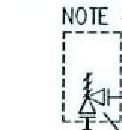psv: (76, 71, 105, 116)
